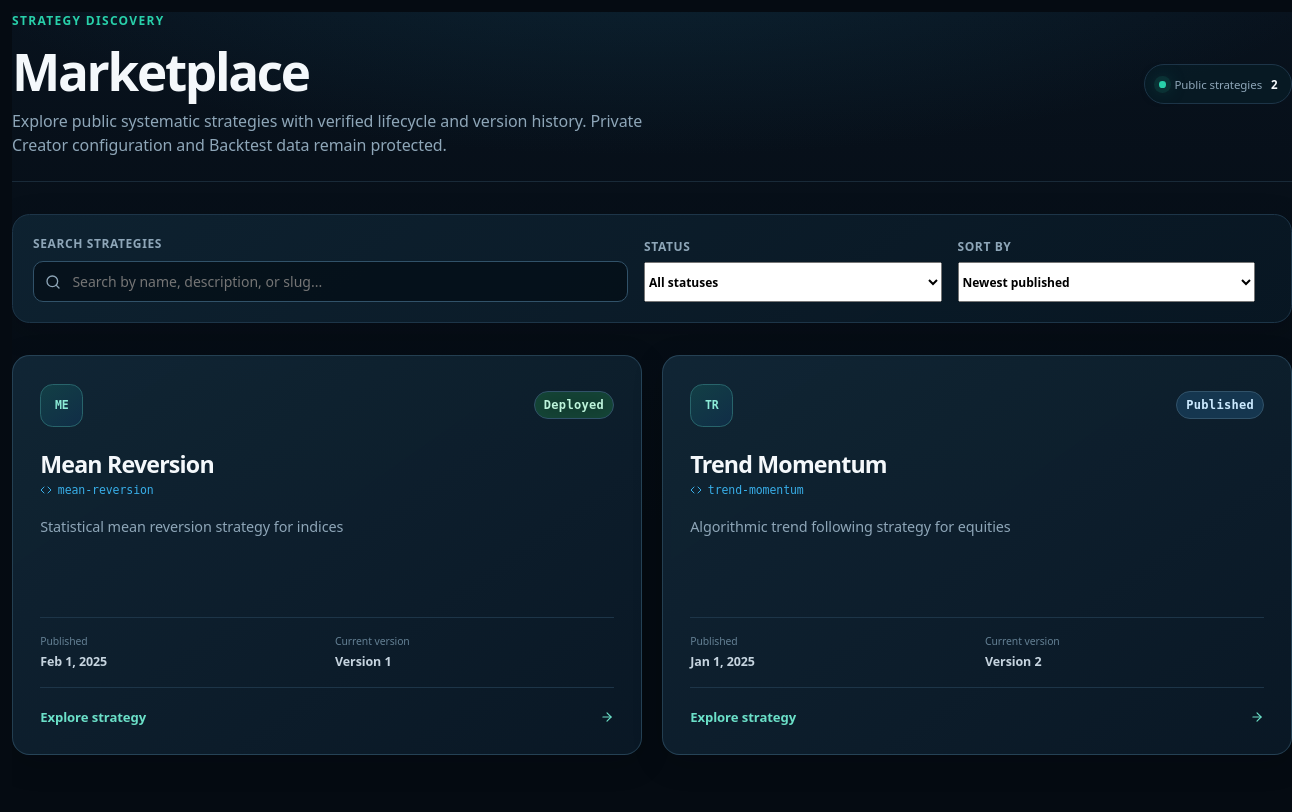
Marketplace pages › filters strategies by status select
The width and height of the screenshot is (1292, 812).
Expected: the heading "Trend Momentum" is shown, [690, 451, 887, 478]
Expected: the heading "Mean Reversion" is shown, [40, 451, 214, 478]
Step 1. Select "Deployed" in the dropdown named "filter by status" → (793, 282), box [644, 262, 942, 302]
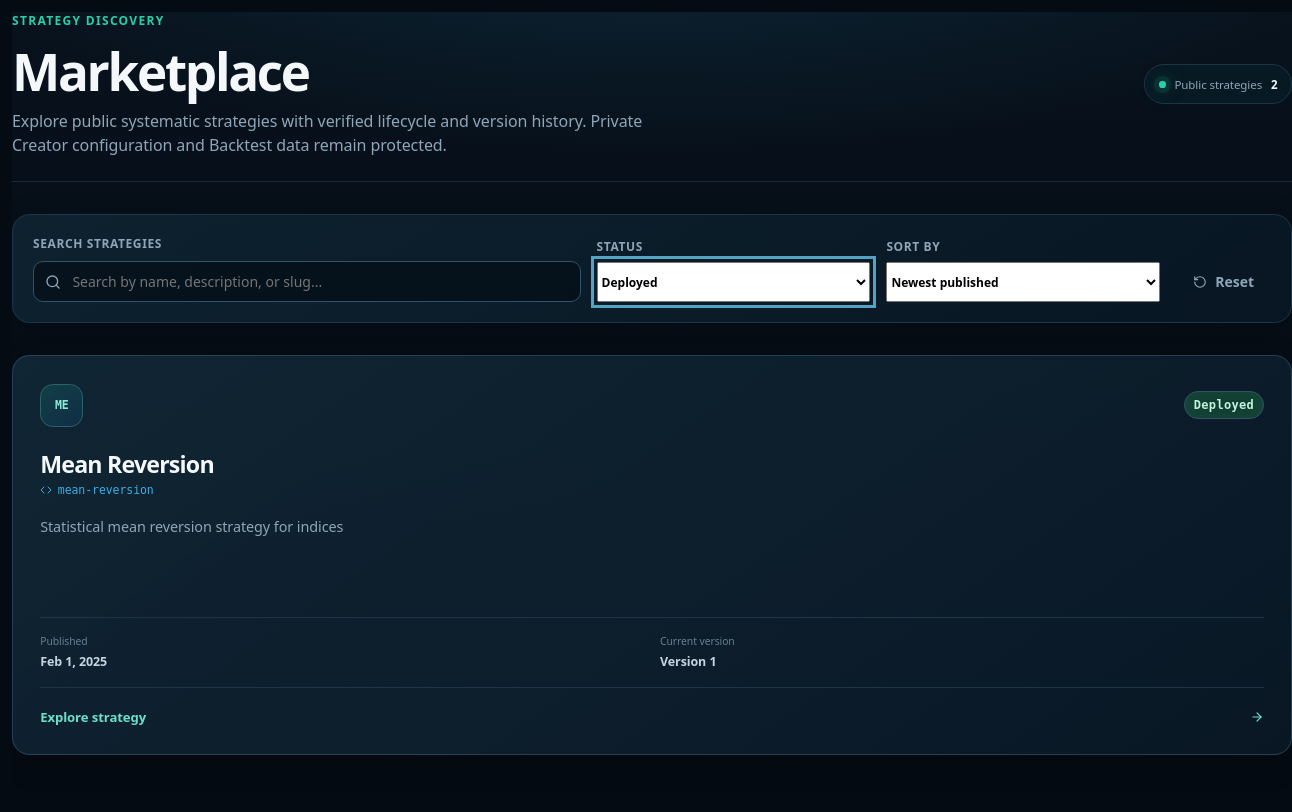
Expected: the heading "Mean Reversion" is shown, [40, 451, 214, 478]
Expected: the heading "Trend Momentum" is gone
